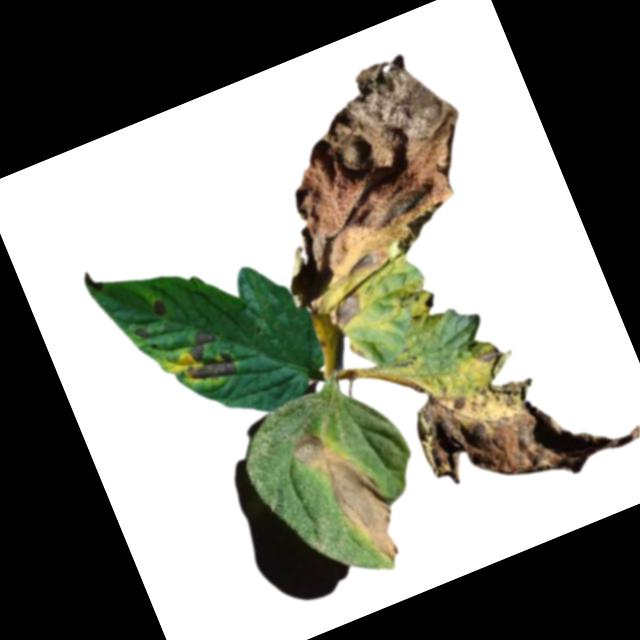Early_blight: (231, 41, 506, 314), (392, 303, 640, 527), (287, 412, 412, 580), (174, 324, 240, 392), (323, 293, 370, 335), (80, 267, 106, 298), (147, 297, 170, 322), (130, 324, 151, 344), (421, 293, 439, 309)
